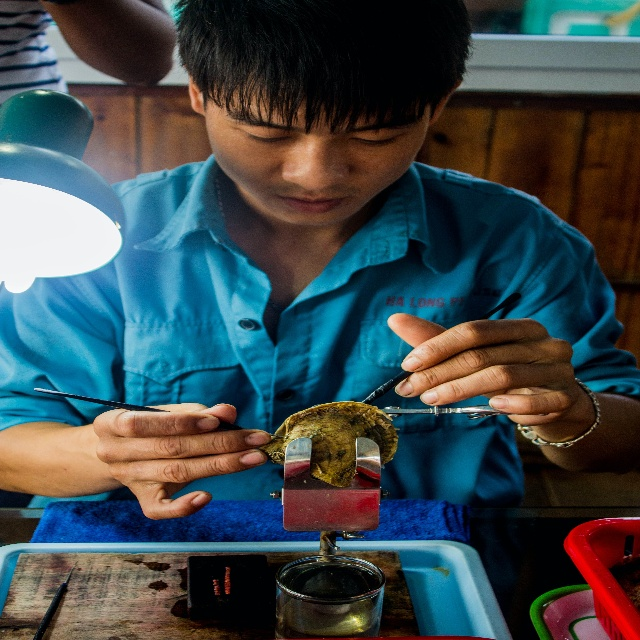Sin_guantes: (386, 312, 578, 426), (92, 400, 272, 520)
